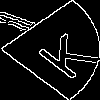K: (25, 25, 100, 81)
